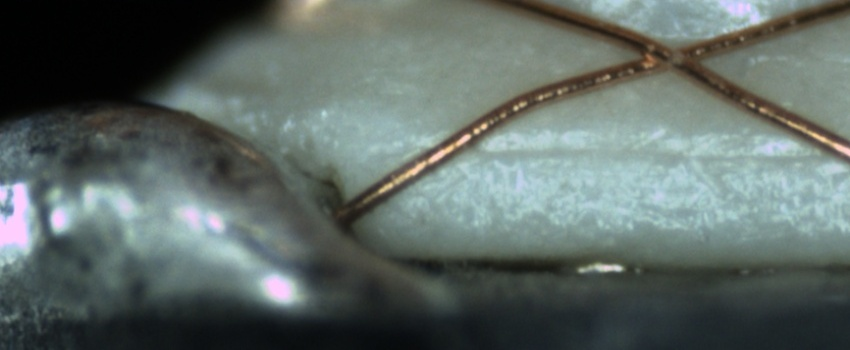CL: (608, 30, 731, 81)
DL: (396, 125, 850, 185)
